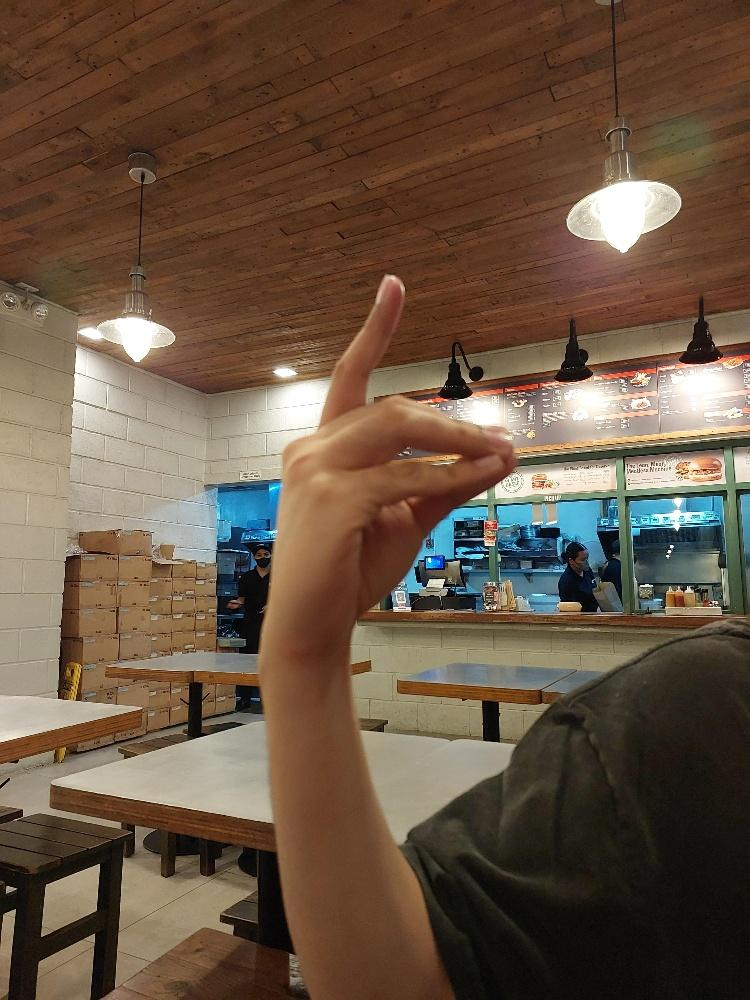d: (266, 270, 519, 653)
